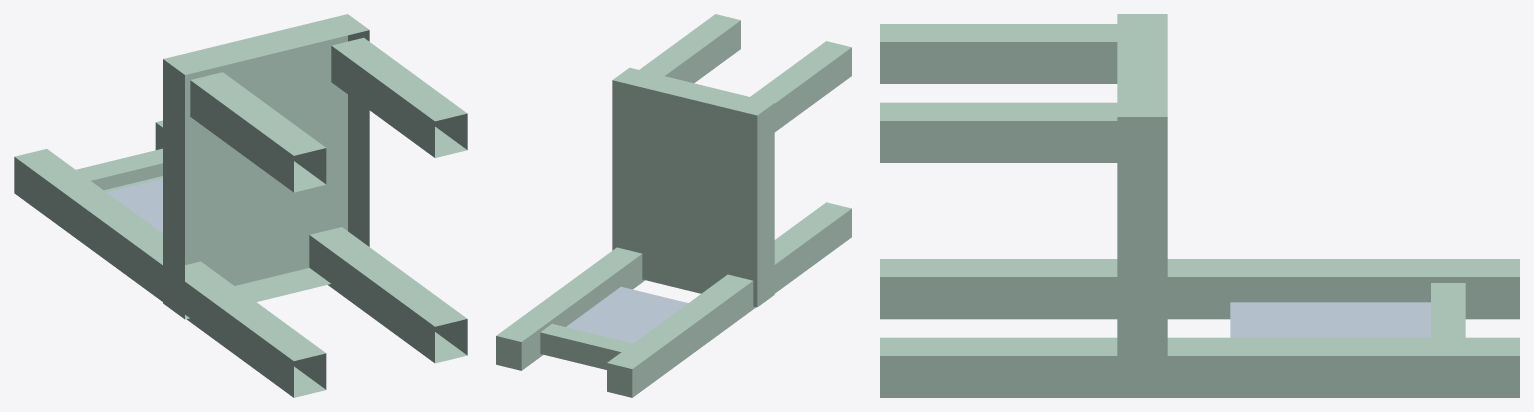
The picture shows the model from 3 angles, left to right: view 1: azimuth 30°, elevation 25°; view 2: azimuth 150°, elevation 25°; view 3: azimuth 270°, elevation 25°; orthographic projection. The views are drawn at different scales.
Parts seen in each view (by area): view 1: Object41; view 2: Object41; view 3: Object41.
Part boxes in pixels (left/top/right/bottom): Object41: left=14, top=14, right=467, bottom=397; Object41: left=496, top=14, right=851, bottom=397; Object41: left=880, top=14, right=1519, bottom=397.
Size of the model in its own units: 4231 by 5434 by 11090.
